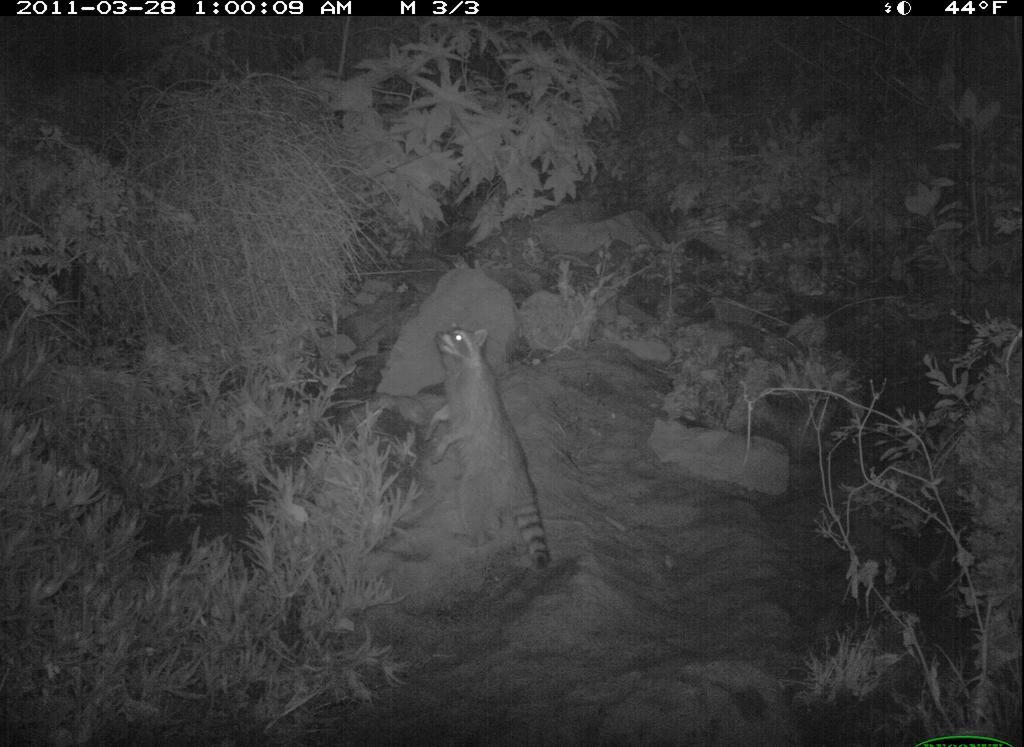raccoon: (425, 317, 560, 577)
